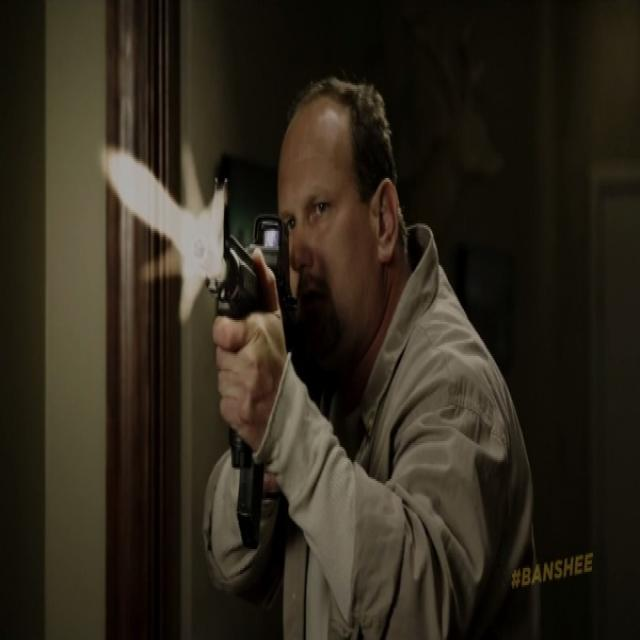rifle: (206, 209, 303, 550)
